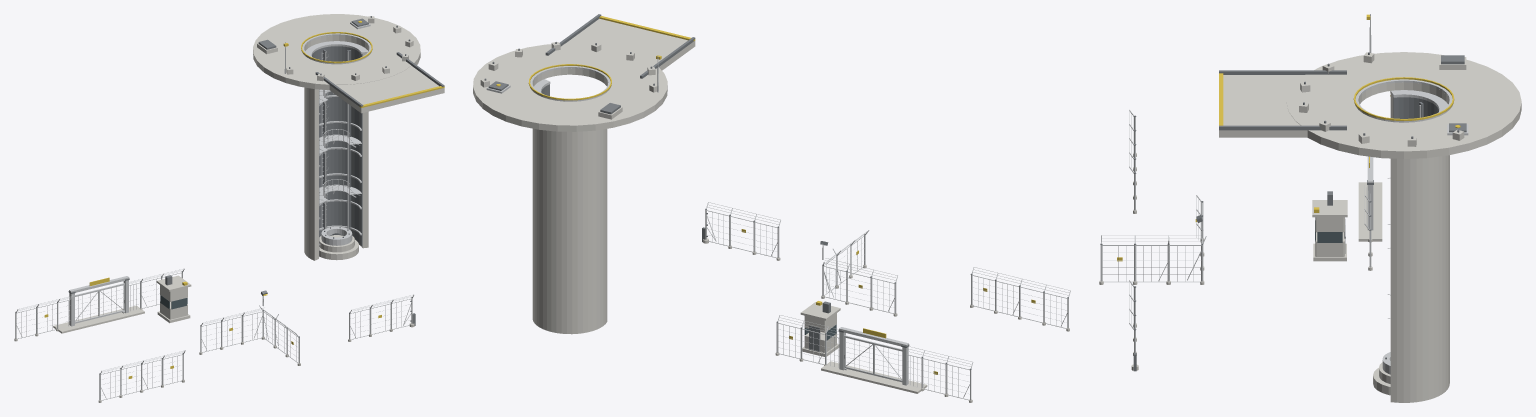
File: cold-war-missile-silo-and-command-bunker-connector-cas-02313992__15717.glb
3 views of the same model, side by side, from view 1: azimuth 30°, elevation 25°; view 2: azimuth 150°, elevation 25°; view 3: azimuth 270°, elevation 25° (orthographic). The views are drawn at different scales.
Parts seen in each view (by area): view 1: 011-silo-headworks-collar/0, 010-launch-tube-cutaway/1, 010-launch-tube-cutaway/0, 010-launch-tube-cutaway/2, 008-perimeter-gate-and-sentry-post/0, 008-perimeter-gate-and-sentry-post/1, 008-perimeter-gate-and-sentry-post/gate-leaf, 011-silo-headworks-collar/2, 011-silo-headworks-collar/3, 000-perimeter-fence-run/1, 001-perimeter-fence-run/1, 003-perimeter-fence-corner/1 (+4 smaller); view 2: 010-launch-tube-cutaway/0, 011-silo-headworks-collar/0, 008-perimeter-gate-and-sentry-post/0, 008-perimeter-gate-and-sentry-post/1, 008-perimeter-gate-and-sentry-post/gate-leaf, 011-silo-headworks-collar/2, 007-perimeter-fence-run/1, 009-perimeter-fence-run/1, 001-perimeter-fence-run/1, 011-silo-headworks-collar/3, 002-perimeter-fence-run/1, 005-perimeter-fence-run/1 (+3 smaller); view 3: 011-silo-headworks-collar/0, 010-launch-tube-cutaway/0, 008-perimeter-gate-and-sentry-post/0, 011-silo-headworks-collar/3, 004-perimeter-fence-run/1, 011-silo-headworks-collar/2, 011-silo-headworks-collar/1, 010-launch-tube-cutaway/1, 003-perimeter-fence-corner/1, 010-launch-tube-cutaway/2, 008-perimeter-gate-and-sentry-post/1.
Boxes of the visible parts, bbox=[...] form: 011-silo-headworks-collar/0: bbox=[253, 14, 444, 113]; 010-launch-tube-cutaway/1: bbox=[312, 46, 362, 256]; 010-launch-tube-cutaway/0: bbox=[304, 52, 368, 260]; 010-launch-tube-cutaway/2: bbox=[305, 41, 368, 245]; 008-perimeter-gate-and-sentry-post/0: bbox=[53, 275, 191, 333]; 008-perimeter-gate-and-sentry-post/1: bbox=[57, 276, 142, 328]; 008-perimeter-gate-and-sentry-post/gate-leaf: bbox=[75, 283, 124, 323]; 011-silo-headworks-collar/2: bbox=[283, 32, 444, 107]; 011-silo-headworks-collar/3: bbox=[258, 16, 444, 106]; 000-perimeter-fence-run/1: bbox=[99, 360, 143, 400]; 001-perimeter-fence-run/1: bbox=[141, 350, 185, 390]; 003-perimeter-fence-corner/1: bbox=[242, 296, 278, 345]; 010-launch-tube-cutaway/0: bbox=[532, 128, 607, 334]; 011-silo-headworks-collar/0: bbox=[473, 18, 695, 131]; 008-perimeter-gate-and-sentry-post/0: bbox=[800, 302, 927, 393]; 008-perimeter-gate-and-sentry-post/1: bbox=[810, 326, 924, 388]; 008-perimeter-gate-and-sentry-post/gate-leaf: bbox=[844, 335, 902, 382]; 011-silo-headworks-collar/2: bbox=[528, 16, 695, 100]; 007-perimeter-fence-run/1: bbox=[922, 350, 973, 400]; 009-perimeter-fence-run/1: bbox=[776, 315, 828, 364]; 001-perimeter-fence-run/1: bbox=[971, 267, 1022, 316]; 011-silo-headworks-collar/3: bbox=[484, 14, 695, 114]; 002-perimeter-fence-run/1: bbox=[846, 264, 897, 313]; 005-perimeter-fence-run/1: bbox=[730, 208, 780, 257]; 011-silo-headworks-collar/0: bbox=[1219, 52, 1521, 158]; 010-launch-tube-cutaway/0: bbox=[1373, 91, 1449, 402]; 008-perimeter-gate-and-sentry-post/0: bbox=[1312, 182, 1382, 261]; 011-silo-headworks-collar/3: bbox=[1219, 52, 1464, 138]; 004-perimeter-fence-run/1: bbox=[1100, 235, 1169, 282]; 011-silo-headworks-collar/2: bbox=[1219, 14, 1454, 125]; 011-silo-headworks-collar/1: bbox=[1355, 14, 1468, 135]; 010-launch-tube-cutaway/1: bbox=[1385, 97, 1438, 359]; 003-perimeter-fence-corner/1: bbox=[1167, 218, 1206, 282]; 010-launch-tube-cutaway/2: bbox=[1382, 90, 1447, 374]; 008-perimeter-gate-and-sentry-post/1: bbox=[1345, 156, 1373, 238].
Bounding box in the file's own units: 39.13 × 21.4 × 25.13.
